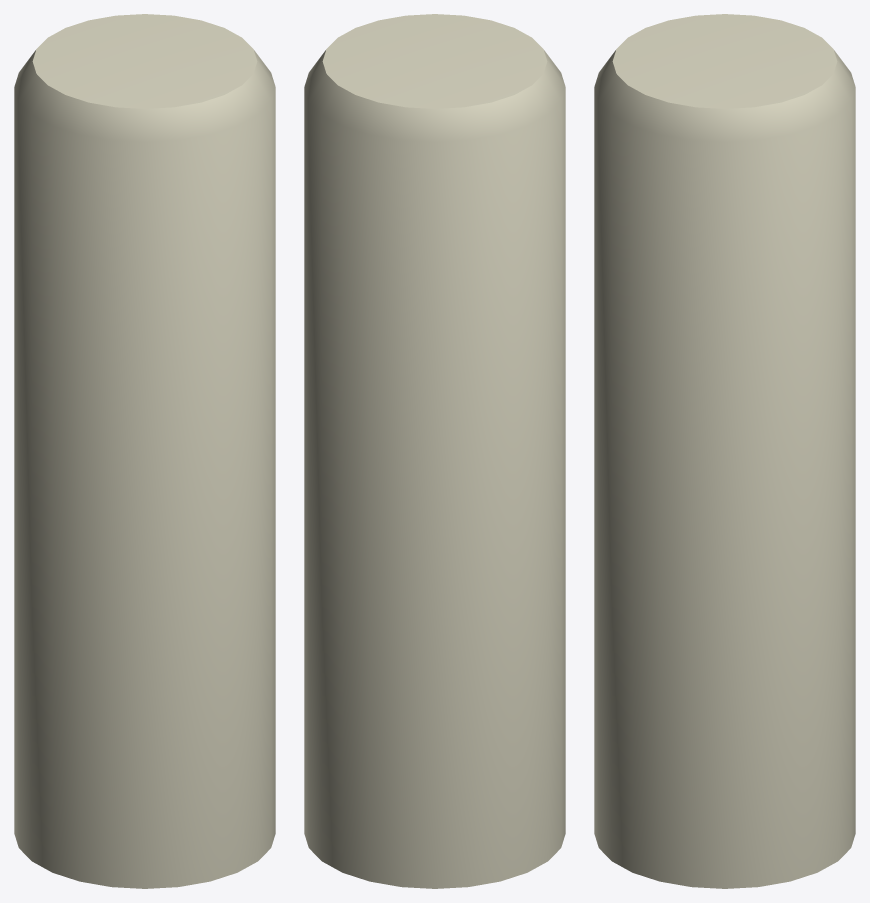
Rendered from SM_Syringe_Liquid.fbx.
3 views of the same model, side by side, from view 1: azimuth 30°, elevation 25°; view 2: azimuth 150°, elevation 25°; view 3: azimuth 270°, elevation 25° (orthographic).
Visible parts, largest first — view 1: SM_Syringe_Liquid; view 2: SM_Syringe_Liquid; view 3: SM_Syringe_Liquid.
Boxes of the visible parts, x1=… form: SM_Syringe_Liquid: x1=14, y1=14, x2=275, y2=888; SM_Syringe_Liquid: x1=304, y1=14, x2=565, y2=888; SM_Syringe_Liquid: x1=594, y1=14, x2=855, y2=888.
Size of the model in its own units: 1.12 by 1.12 by 3.65.
